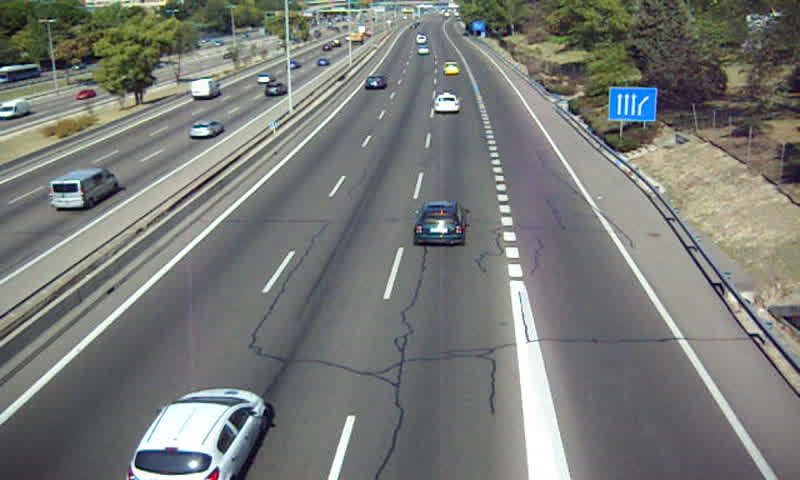car: (130, 387, 268, 480), (415, 202, 468, 243), (432, 91, 462, 113), (363, 76, 387, 90)
